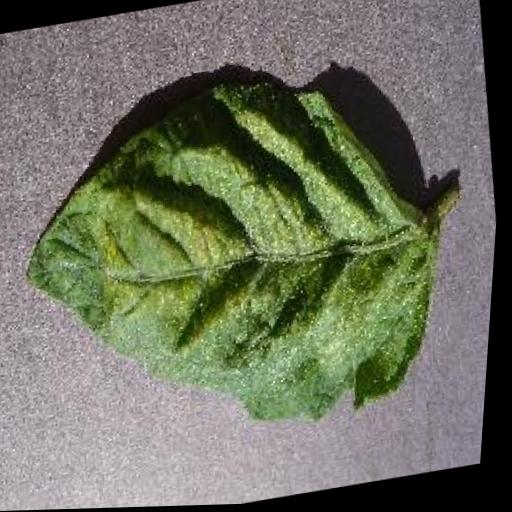Spider Mites: (0, 52, 472, 467)
